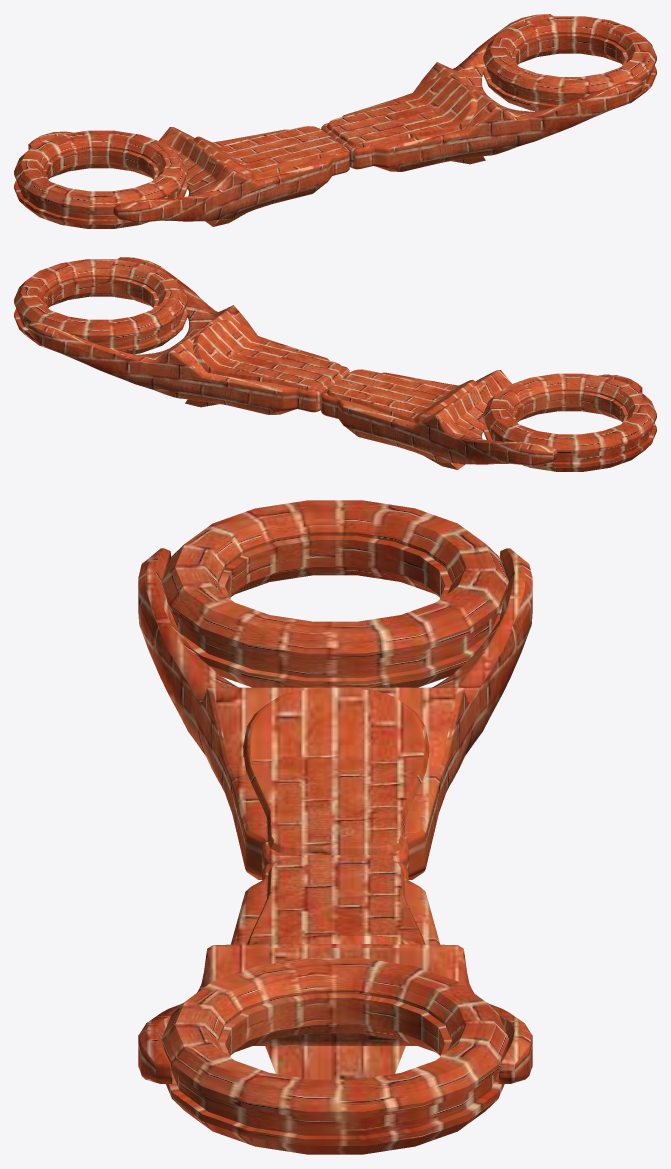
File: hoverboard.fbx
3 renders of one model, top to bottom at view 1: azimuth 30°, elevation 25°; view 2: azimuth 150°, elevation 25°; view 3: azimuth 270°, elevation 25°, orthographic. The views are drawn at different scales.
Visible parts, largest first — view 1: Hover Board, Hover Board.002, Hover Board.001; view 2: Hover Board, Hover Board.002, Hover Board.001; view 3: Hover Board, Hover Board.002, Hover Board.001.
Part boxes in pixels (x1=…): Hover Board: x1=14, y1=16, x2=656, y2=228; Hover Board.002: x1=28, y1=14, x2=642, y2=226; Hover Board.001: x1=193, y1=76, x2=477, y2=180; Hover Board: x1=14, y1=259, x2=656, y2=471; Hover Board.002: x1=28, y1=257, x2=642, y2=469; Hover Board.001: x1=193, y1=320, x2=477, y2=423; Hover Board: x1=161, y1=500, x2=508, y2=1154; Hover Board.002: x1=138, y1=548, x2=532, y2=1083; Hover Board.001: x1=243, y1=687, x2=429, y2=944.
Size of the model in its own units: 1548 by 184 by 428.
1 material, 1 textured.
